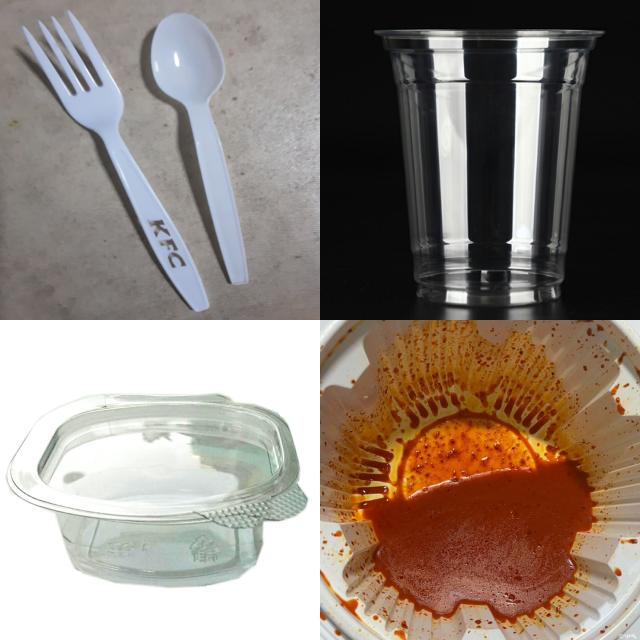Single-Use-Plastic: (321, 321, 640, 639), (376, 30, 604, 306), (8, 395, 306, 586), (23, 11, 209, 311), (151, 14, 249, 285)
